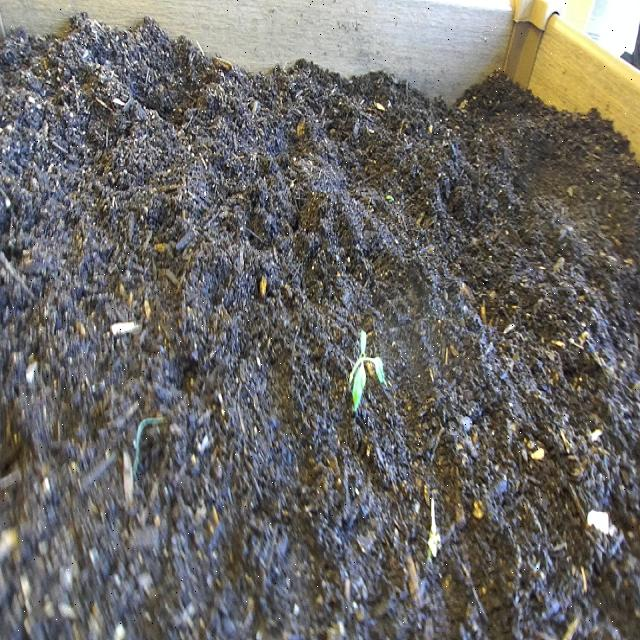Healthy: (339, 320, 390, 424)
